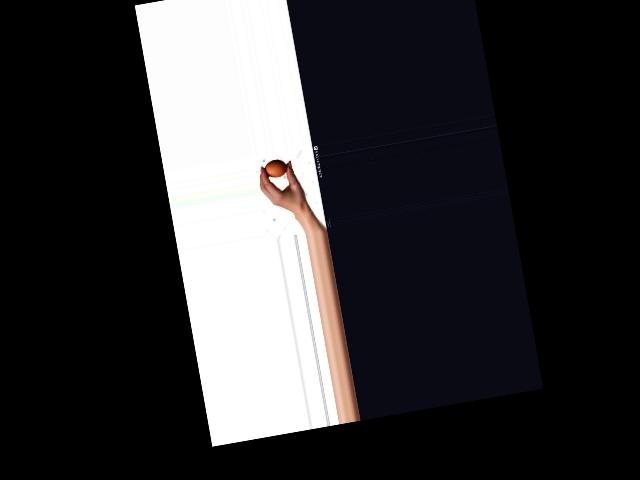egg: (264, 158, 288, 179)
